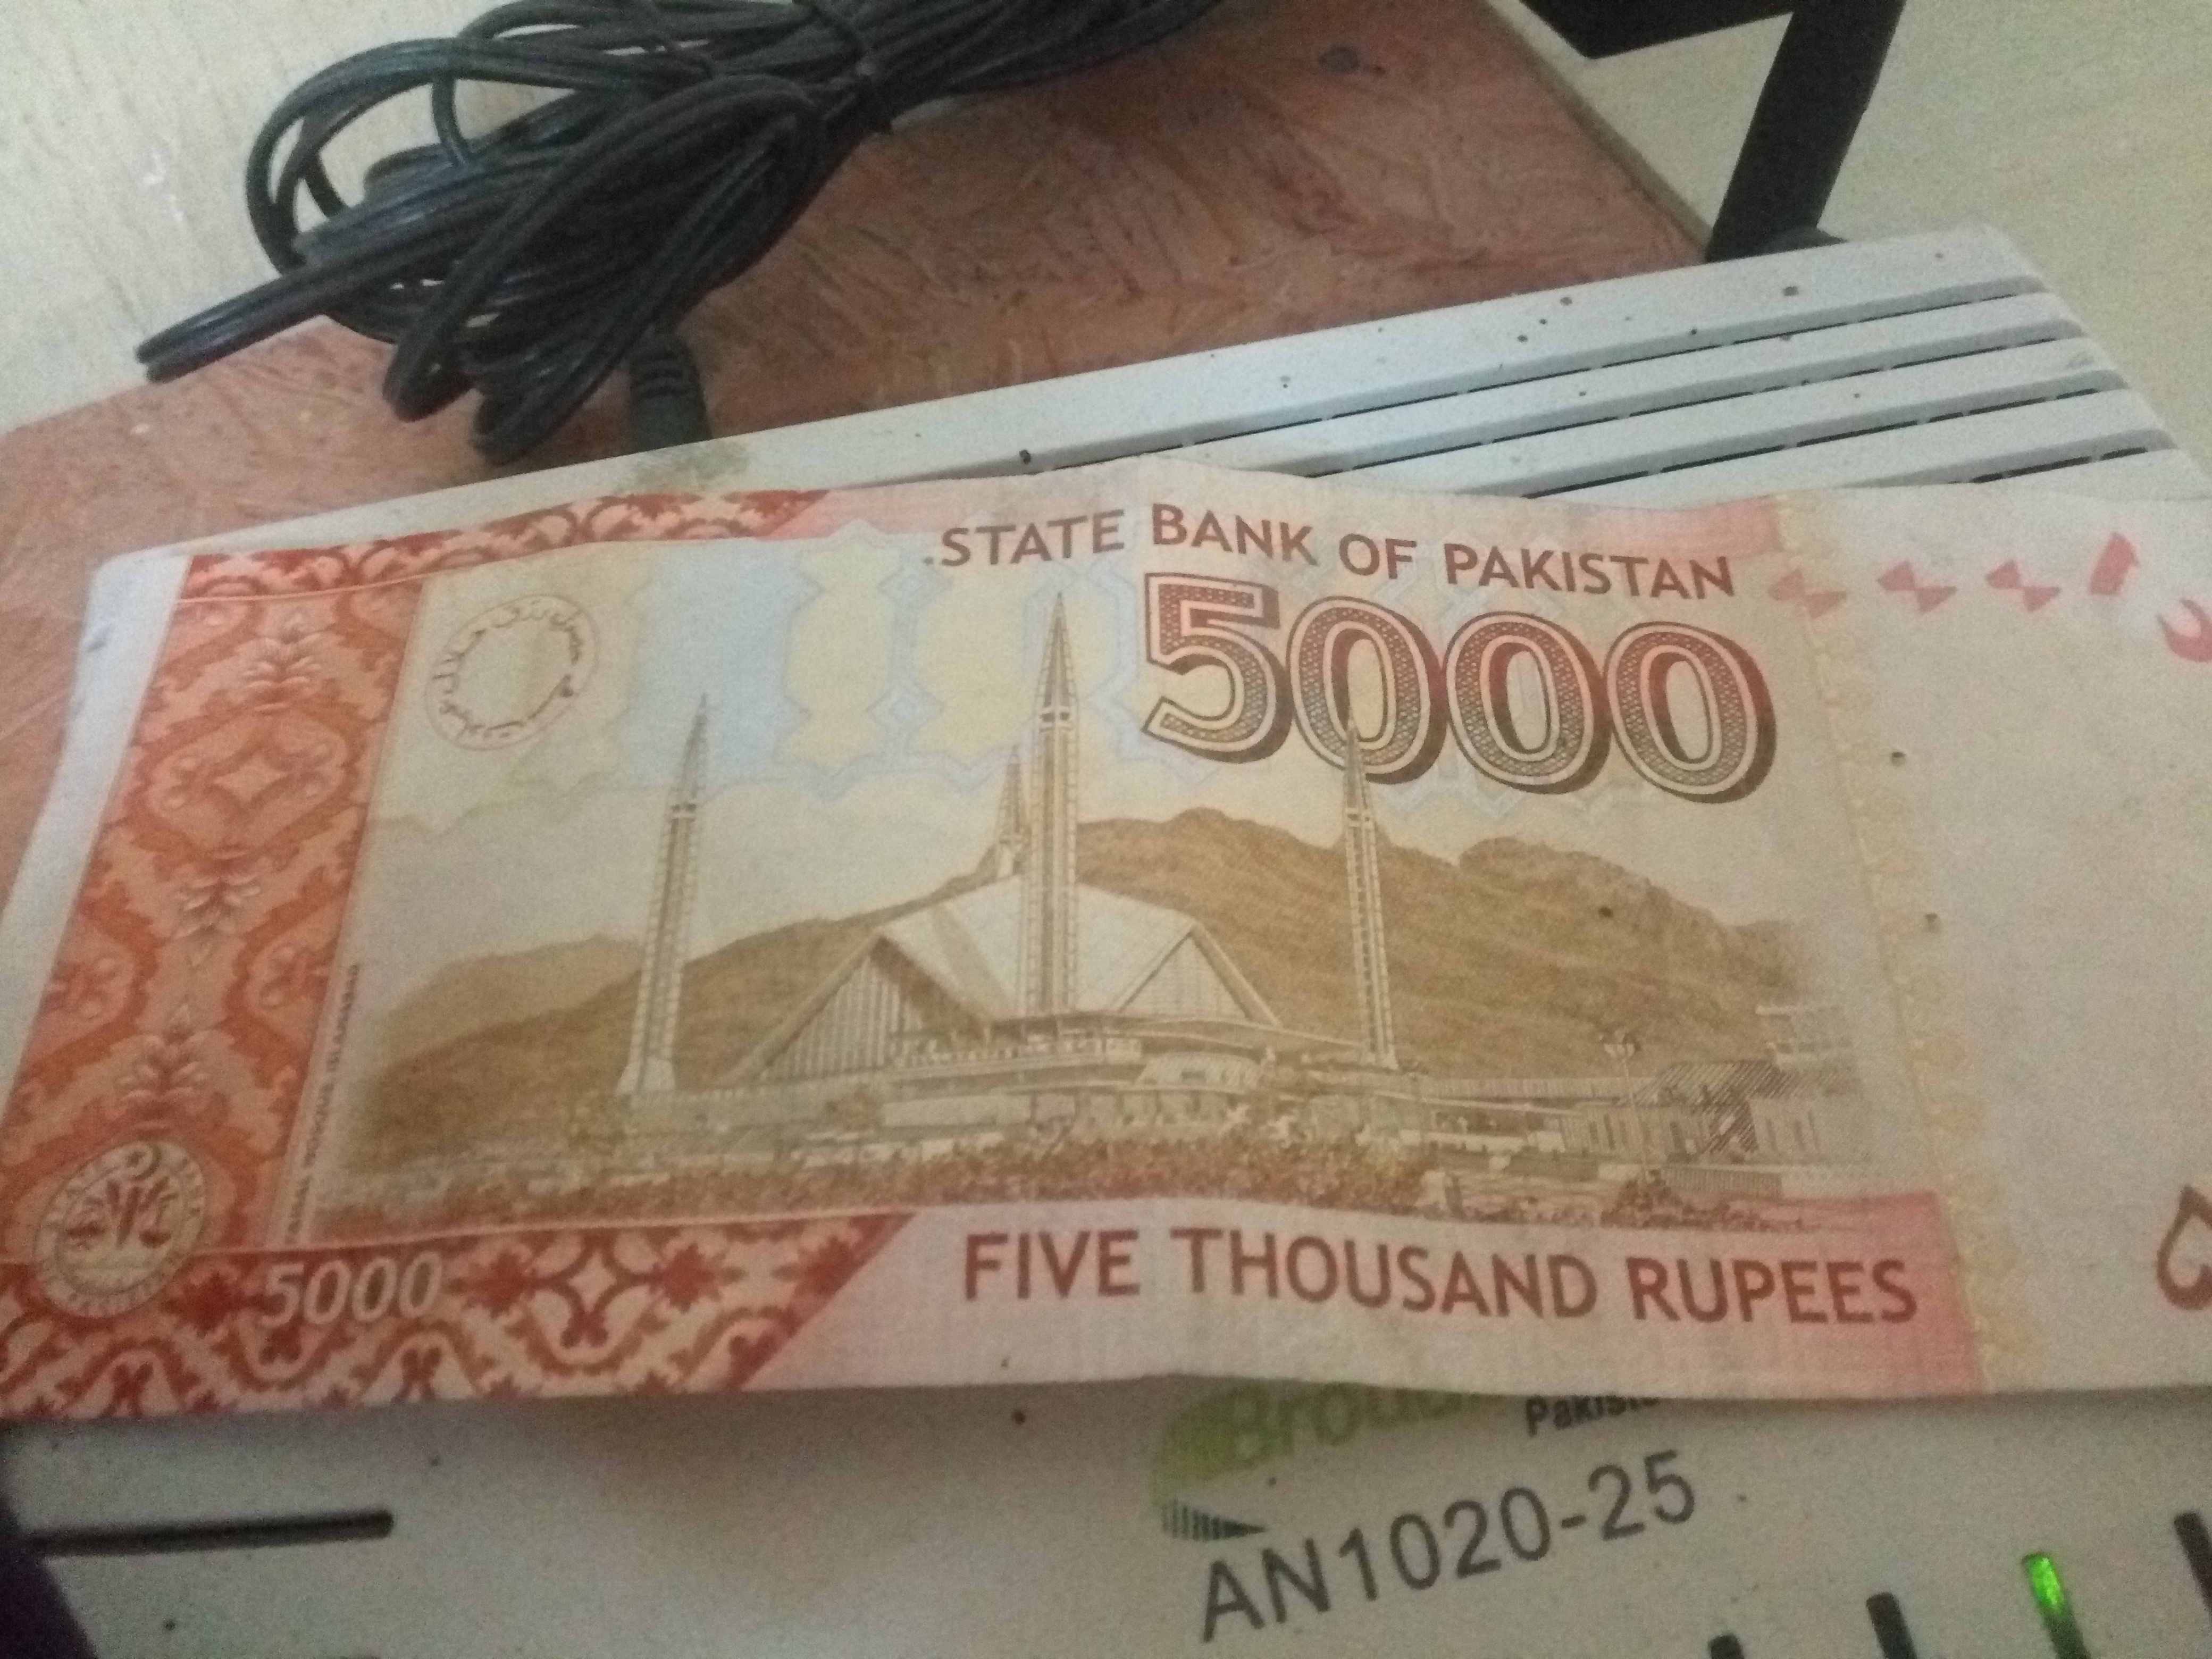5000 rupee: (0, 462, 2212, 1490)
